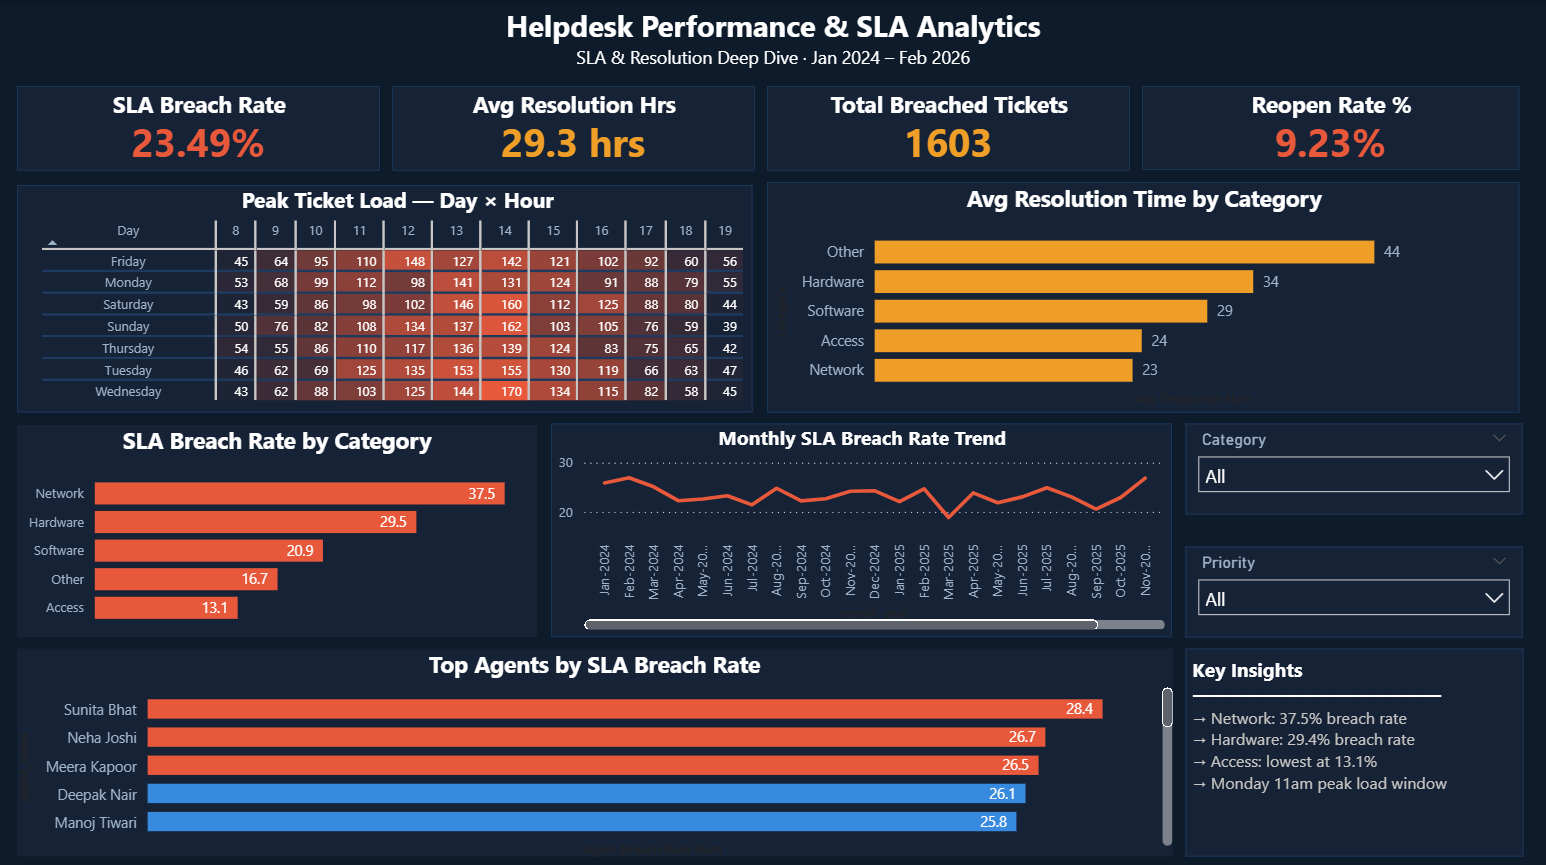

The dashboard page shown, as its layout file describes it:
{"tool":"powerbi","page":{"name":"SLA & Resolution Deep Dive","canvas":[1280,720],"ordinal":1},"visuals":[{"type":"textbox","box":[0,0,1280,67],"z":0},{"type":"card","title":"Reopen Rate %","fields":{"Values":["Measures_.Reopen Rate %"]},"box":[944.5,72.2,311.8,69.6],"z":1000},{"type":"card","title":"SLA Breach Rate","fields":{"Values":["Measures_.SLA Breach Rate %"]},"box":[15,72,300,70],"z":2000},{"type":"card","title":"Avg Resolution Hrs","fields":{"Values":["Measures_.Avg Resolution Hrs"]},"box":[325,72,300,70],"z":3000},{"type":"card","title":"Total Breached Tickets","fields":{"Values":["Measures_.Breach Count"]},"box":[635,72,300,70],"z":4000},{"type":"pivotTable","title":"Peak Ticket Load — Day × Hour","fields":{"Columns":["vw_tickets_full.hour_of_day"],"Rows":["vw_tickets_full.day_of_week"],"Values":["Measures_.Total Tickets"]},"box":[15.5,153.3,608.2,188.1],"z":5000},{"type":"clusteredBarChart","title":"Avg Resolution Time by Category","fields":{"Category":["vw_tickets_full.category"],"Y":["Measures_.Avg Resolution Num"]},"box":[634.8,151.2,622.2,190.6],"z":6000},{"type":"clusteredBarChart","title":"SLA Breach Rate by Category ","fields":{"Category":["vw_tickets_full.category"],"Y":["Measures_.Agent Breach Rate Num"]},"box":[15,352,430,175],"z":7000},{"type":"lineChart","title":"Monthly SLA Breach Rate Trend ","fields":{"Category":["vw_tickets_full.month_year"],"Y":["Measures_.SLA Breach Rate Num"]},"box":[456.8,351.2,513.5,176.4],"z":8000},{"type":"slicer","fields":{"Values":["vw_tickets_full.category"]},"box":[981.3,351.2,278.8,75.6],"z":9000},{"type":"slicer","fields":{"Values":["vw_tickets_full.dept_name"]},"box":[981.3,452,278.8,75.6],"z":10000},{"type":"textbox","box":[980.6,537.3,279.6,172],"z":11000},{"type":"clusteredBarChart","title":"Top Agents by SLA Breach Rate","fields":{"Category":["vw_tickets_full.agent_name"],"Y":["Measures_.Agent Breach Rate Num"]},"box":[15.5,537,955,172],"z":12000}]}

Visuals, with their boxes in screenshot pixels (x1, y1, x2, y2), scaled from the page's 1280x720 canvas onto the 1546x865 screenshot:
textbox: 0:0:1545:80
"Reopen Rate %" card: 1141:87:1517:170
"SLA Breach Rate" card: 18:86:380:171
"Avg Resolution Hrs" card: 393:86:755:171
"Total Breached Tickets" card: 767:86:1129:171
"Peak Ticket Load — Day × Hour" pivotTable: 19:184:753:410
"Avg Resolution Time by Category" clusteredBarChart: 767:182:1518:411
"SLA Breach Rate by Category " clusteredBarChart: 18:423:537:633
"Monthly SLA Breach Rate Trend " lineChart: 552:422:1172:634
slicer - vw_tickets_full.category: 1185:422:1522:513
slicer - vw_tickets_full.dept_name: 1185:543:1522:634
textbox: 1184:646:1522:852
"Top Agents by SLA Breach Rate" clusteredBarChart: 19:645:1172:852
